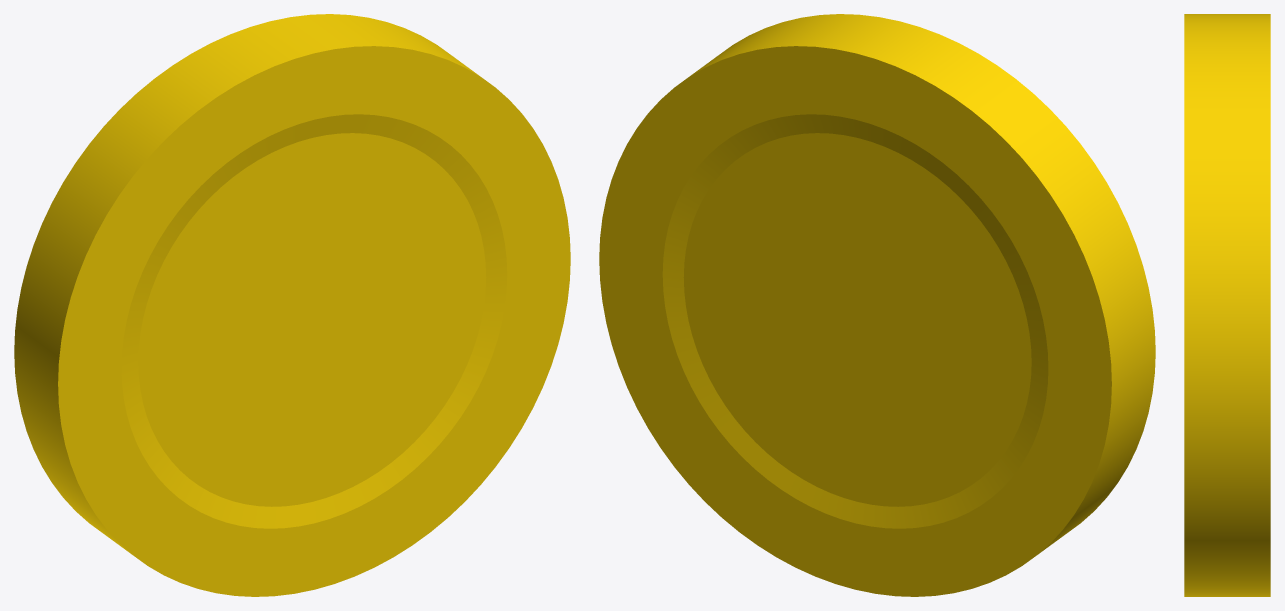
The model's file is coin.fbx.
The picture shows the model from 3 angles, left to right: view 1: azimuth 30°, elevation 25°; view 2: azimuth 150°, elevation 25°; view 3: azimuth 270°, elevation 25°; orthographic projection.
Parts seen in each view (by area): view 1: Cylinder; view 2: Cylinder; view 3: Cylinder.
Part boxes in pixels (x1=…): Cylinder: x1=14, y1=14, x2=570, y2=596; Cylinder: x1=599, y1=14, x2=1155, y2=596; Cylinder: x1=1184, y1=14, x2=1270, y2=596.
Size of the model in its own units: 200 by 200 by 29.61.
